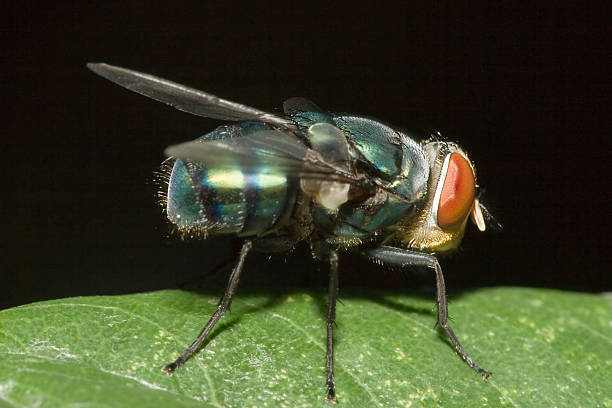Fruit fly: (88, 40, 511, 378)
